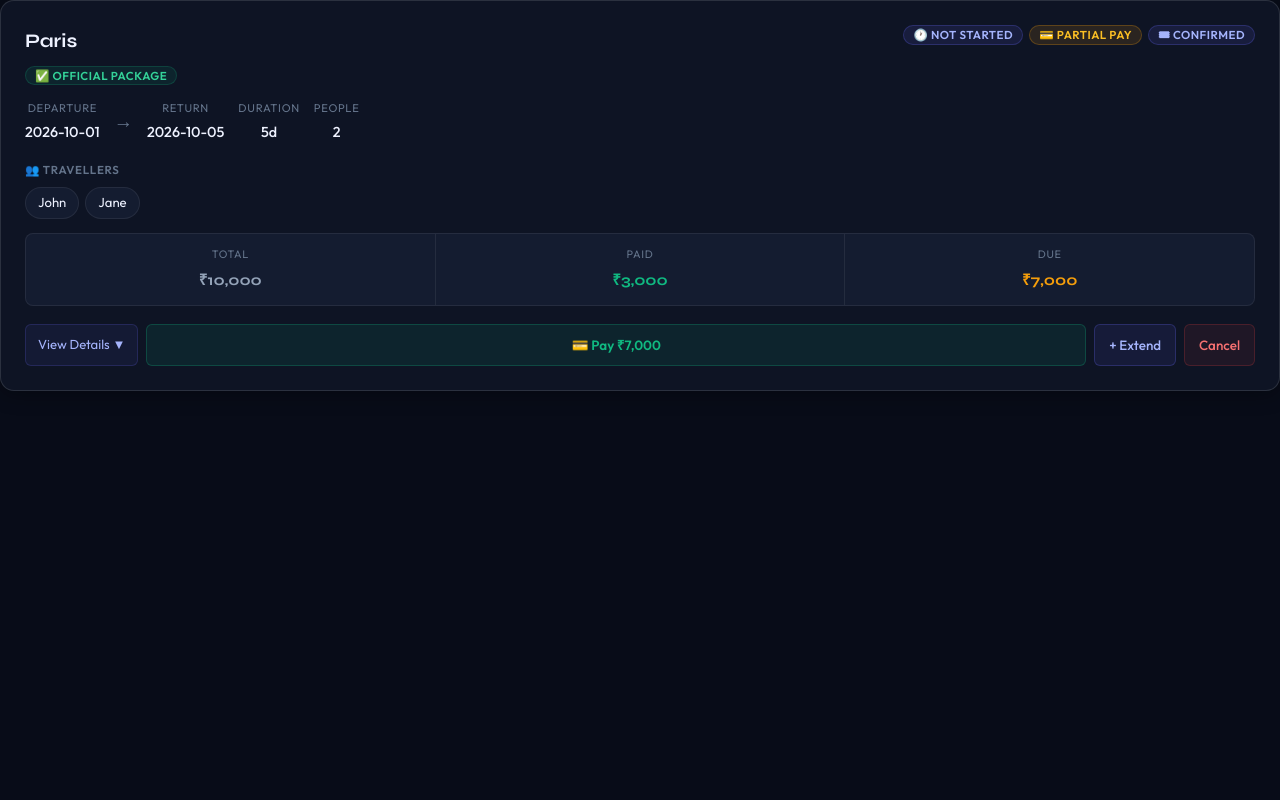
Test: BookingCard Component › handles cancellation — opens CancelConfirmModal
Click the button "Cancel" at {"x": 1220, "y": 345}, box [1184,324,1255,366]
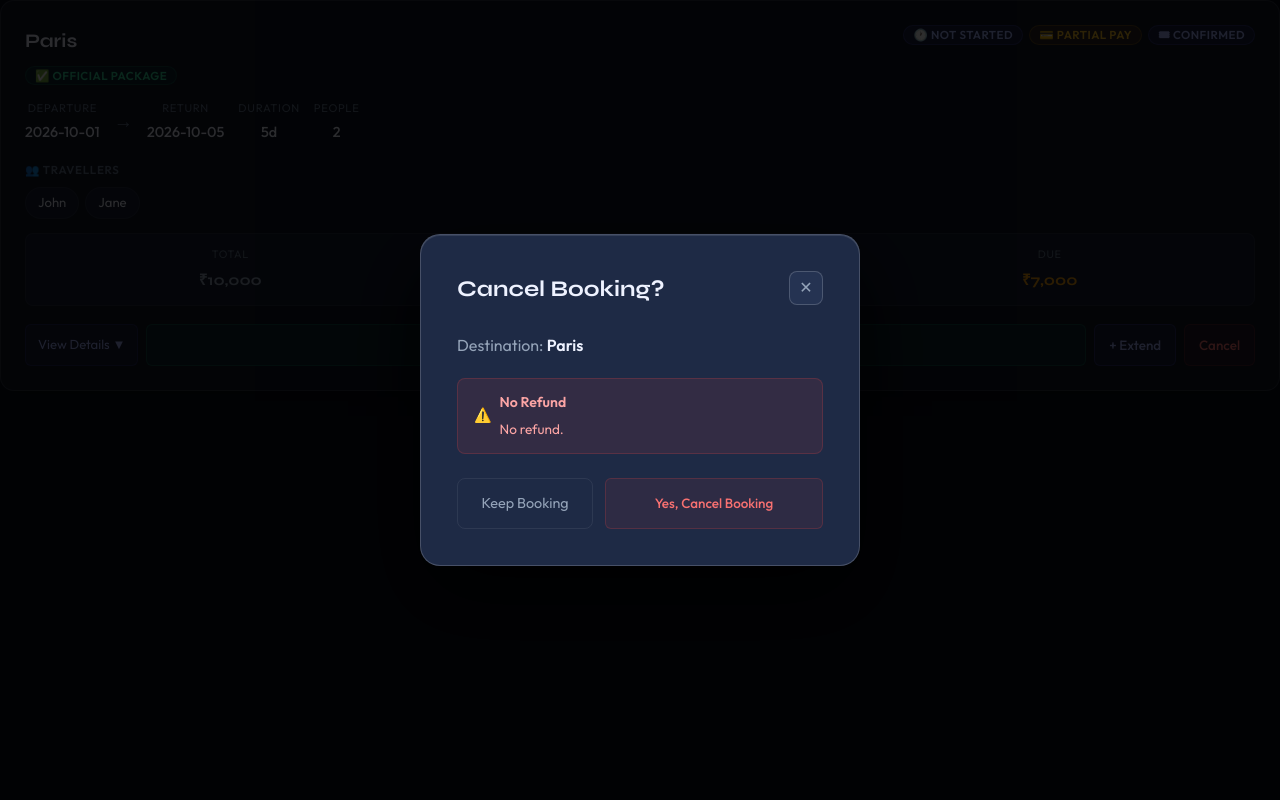
Expected: the text "Paris" in the row of "Not Started" is shown, [25,29,77,52]
Result: the text "No Refund" is shown at [500,391,566,414]
